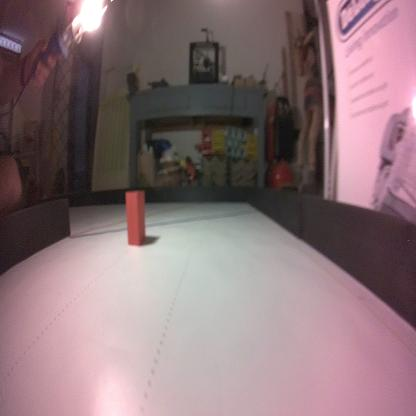red: (123, 187, 147, 251)
